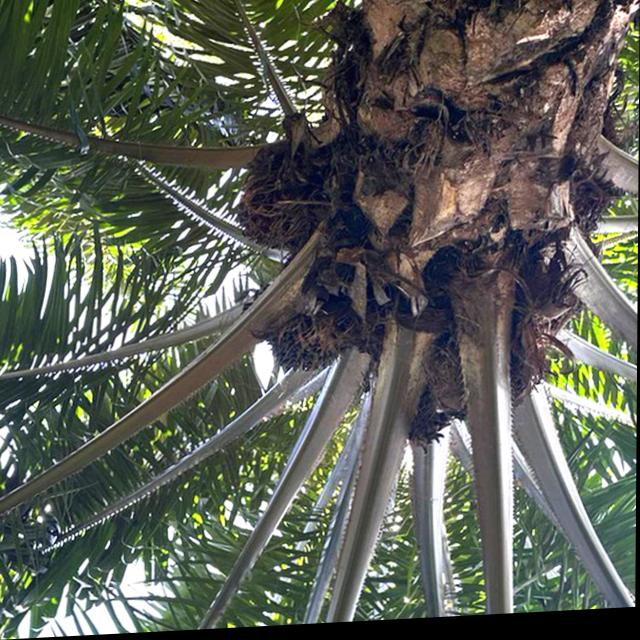unripe: (252, 296, 363, 383)
